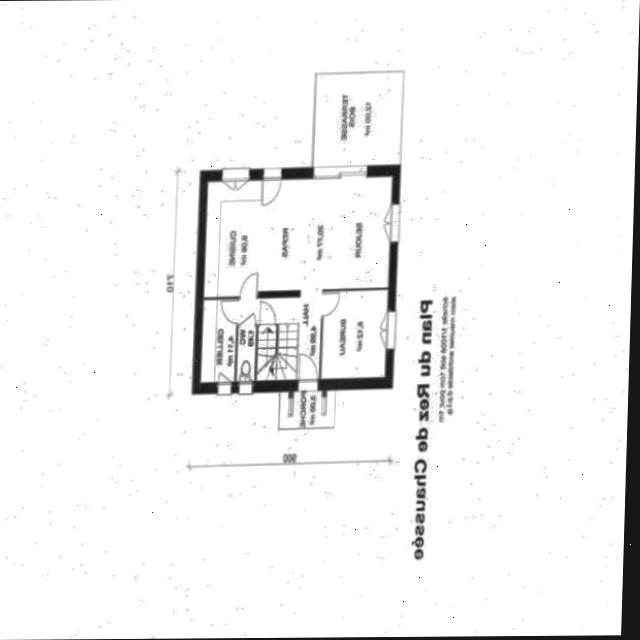room: (202, 177, 395, 298), (238, 290, 325, 382), (321, 288, 389, 382), (201, 298, 238, 384), (236, 326, 257, 382)
